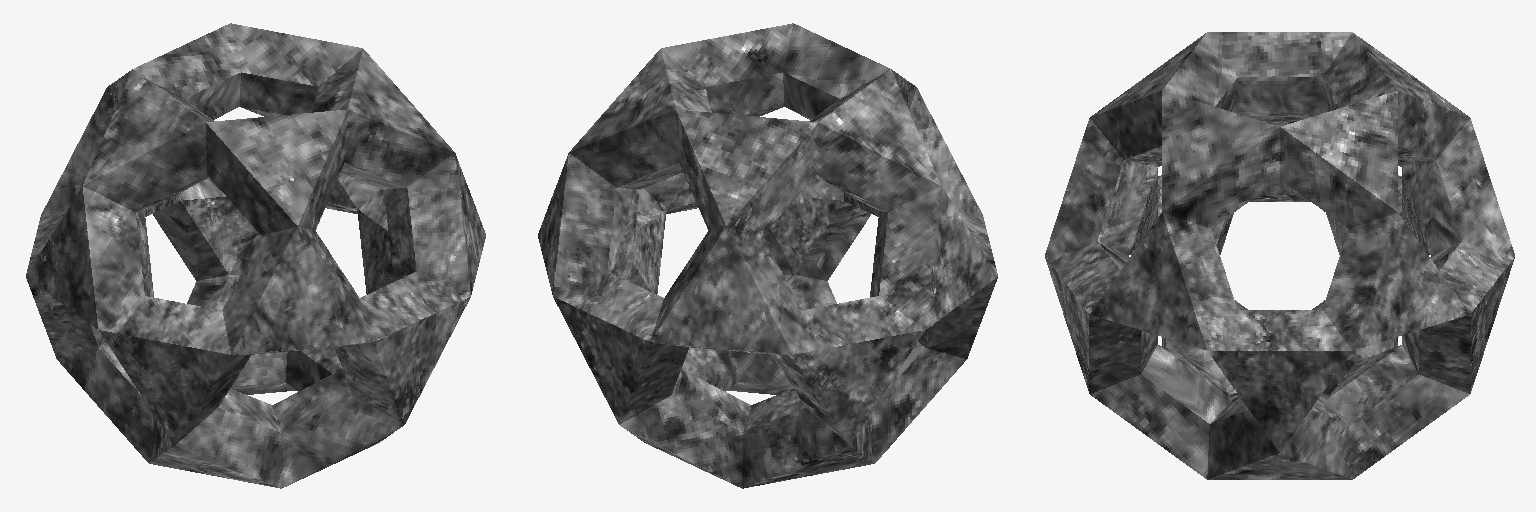
The picture shows the model from 3 angles: view 1: azimuth 30°, elevation 25°; view 2: azimuth 150°, elevation 25°; view 3: azimuth 270°, elevation 25°; orthographic projection.
Parts seen in each view (by area): view 1: unnamed_object1; view 2: unnamed_object1; view 3: unnamed_object1.
Part boxes in pixels (x1,y1,x2,y2): unnamed_object1: (26, 23, 485, 488); unnamed_object1: (538, 23, 997, 488); unnamed_object1: (1045, 32, 1514, 479).
Bounding box in the file's own units: 3.08 × 2.75 × 3.24.
Materials: 1 (1 with a texture image).